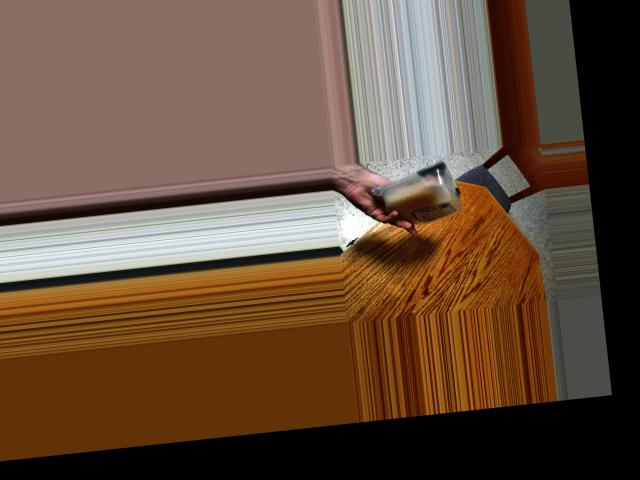cheese: (378, 161, 466, 231)
